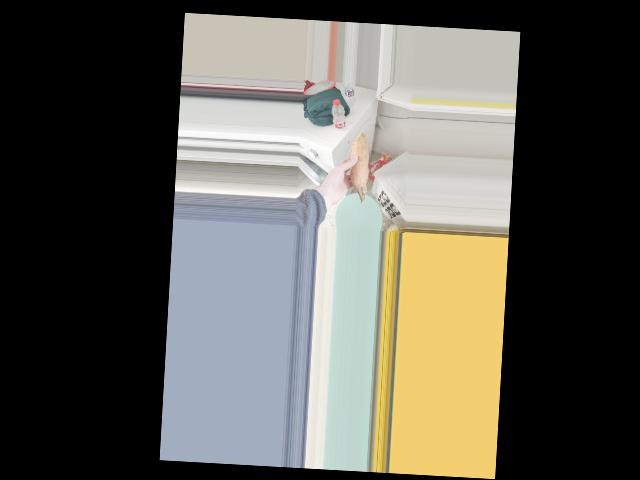sweet_potato: (343, 140, 369, 201)
